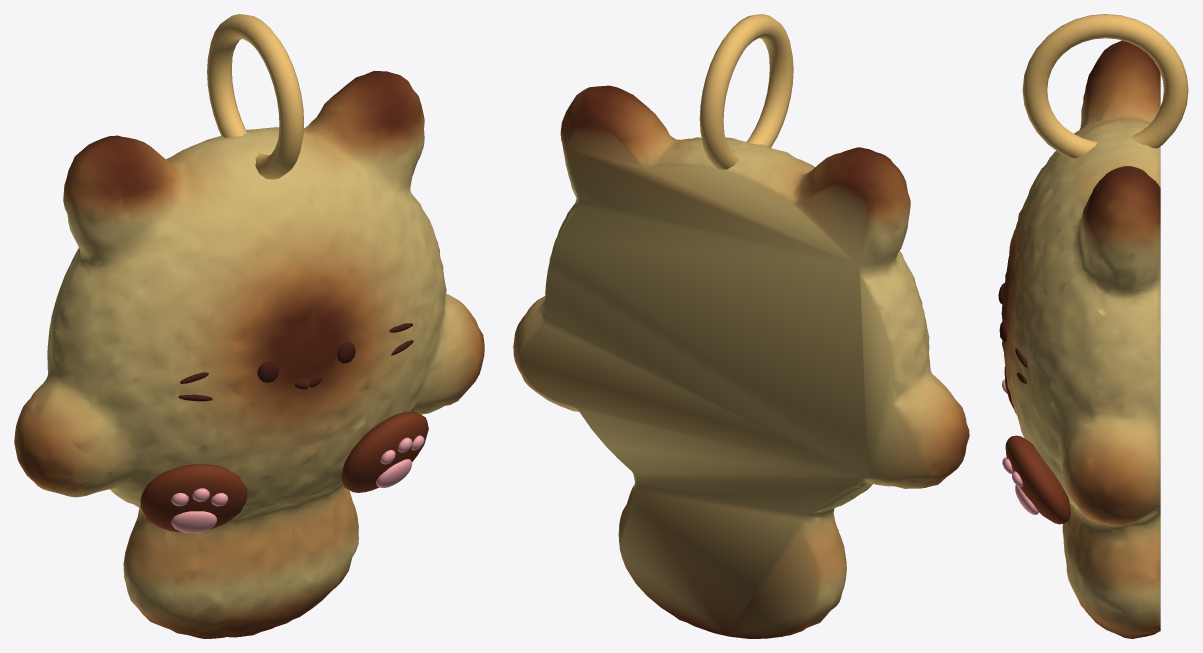
The model's file is charm-meo-vang.glb.
3 views of the same model, side by side, from view 1: azimuth 30°, elevation 25°; view 2: azimuth 150°, elevation 25°; view 3: azimuth 270°, elevation 25° (orthographic). The views are drawn at different scales.
Visible parts, largest first — view 1: meo_vang, ring; view 2: meo_vang, ring; view 3: meo_vang, ring.
Part boxes in pixels (x1,y1,x2,y2): meo_vang: (14, 70, 484, 638); ring: (207, 14, 303, 179); meo_vang: (513, 85, 969, 638); ring: (699, 14, 793, 169); meo_vang: (998, 40, 1160, 638); ring: (1022, 14, 1188, 158).
Size of the model in its own units: 0.0146 by 0.0189 by 0.00538.
